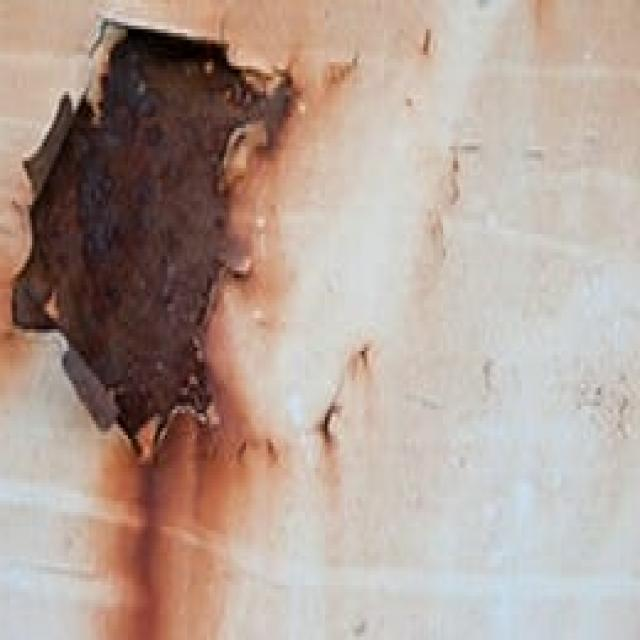Corrosion: (12, 20, 290, 456), (97, 426, 156, 640), (143, 415, 229, 538), (146, 602, 190, 640)
